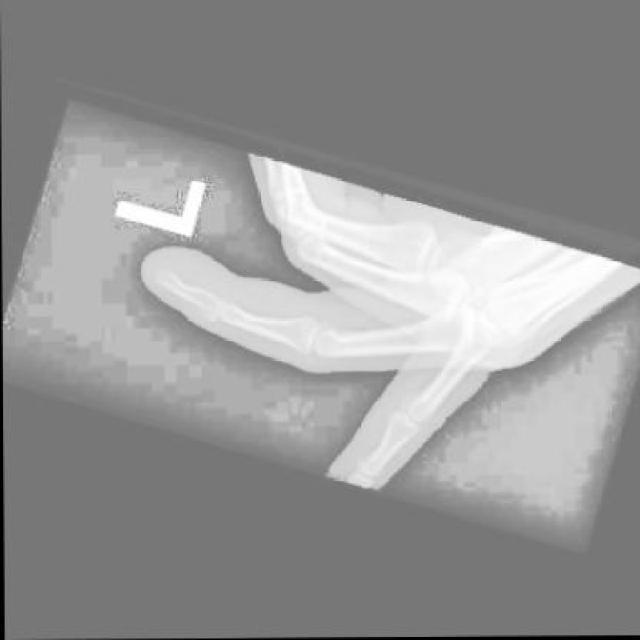Fracture: (183, 285, 227, 330)
